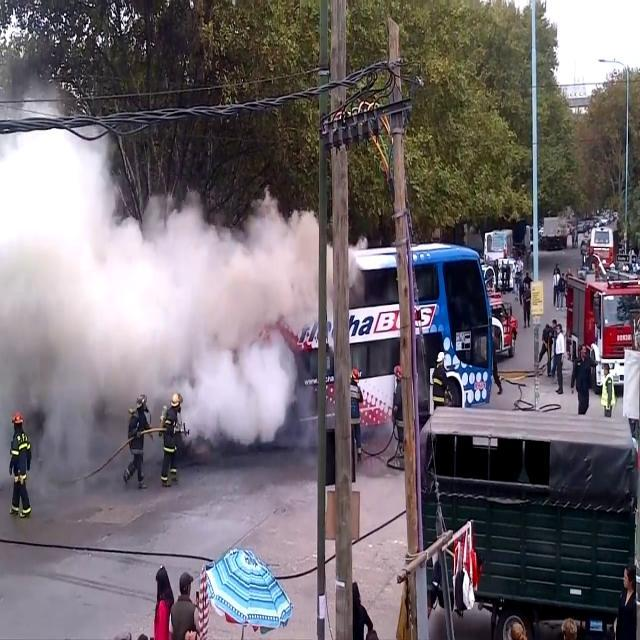Smoke: (0, 122, 306, 459)
